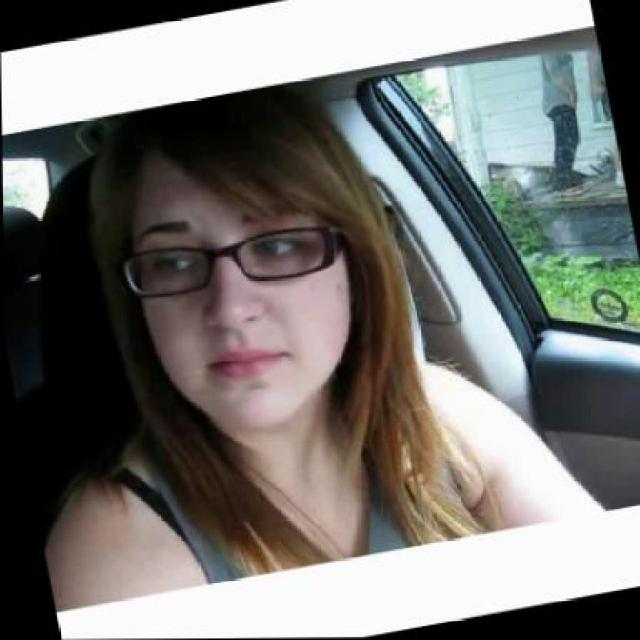attentif: (82, 75, 375, 448)
